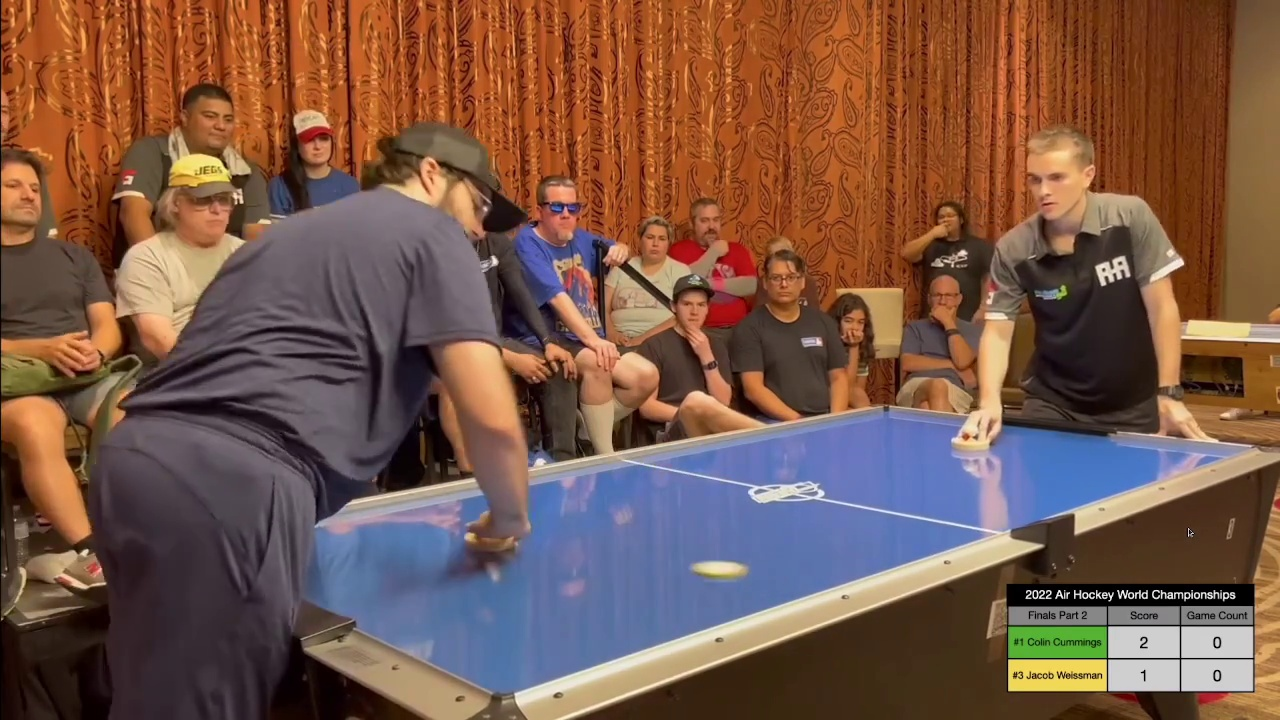player: (462, 509, 517, 550), (945, 421, 992, 452)
puck: (692, 556, 747, 582)
table: (253, 400, 1280, 697)
